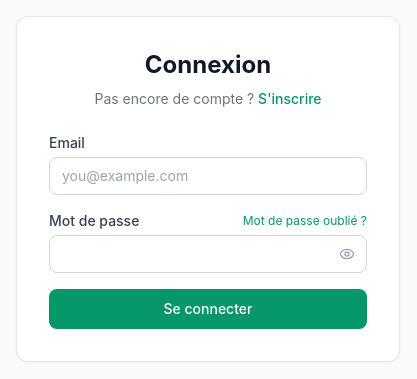
Test: LoginPage › disables submit button while loading
In the field labelled "Email": point(208, 176) [49,157,367,195], type "a@b.com"
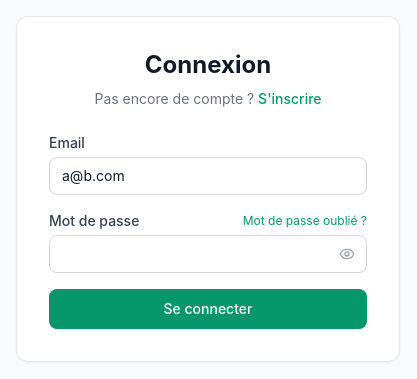
In the password field labelled "Mot de passe": point(208, 254) [49,235,367,273], type "pass"
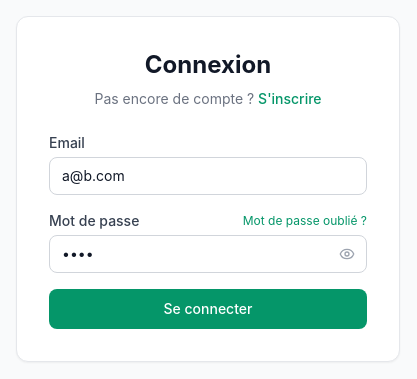
Click the button "Se connecter": point(208, 309) [49,289,367,329]
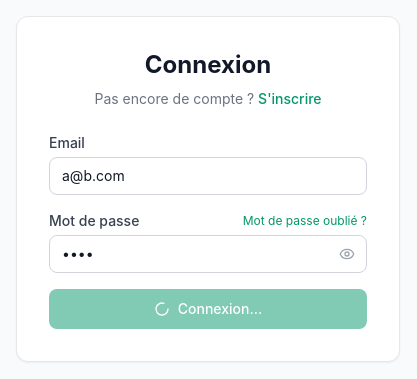
Check: the button "Connexion…" is disabled, box [49,289,367,329]
